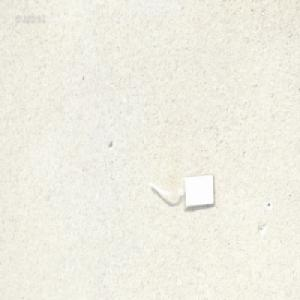LuggageTag: (146, 172, 214, 211)
